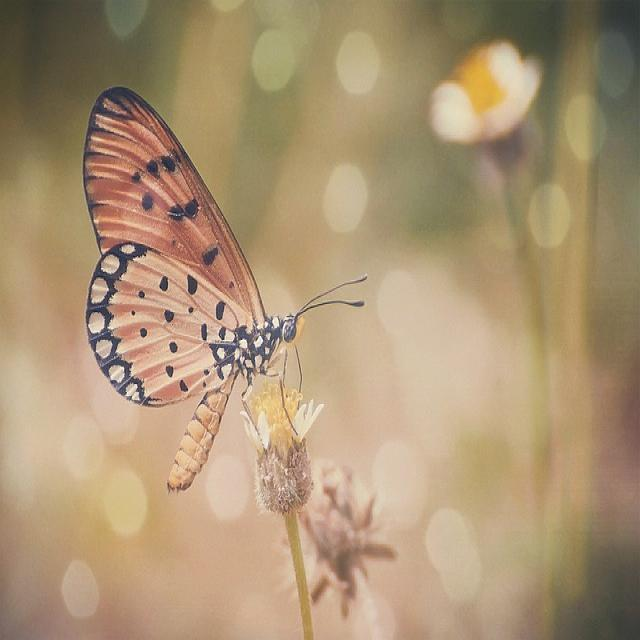butterfly: (83, 87, 302, 493)
